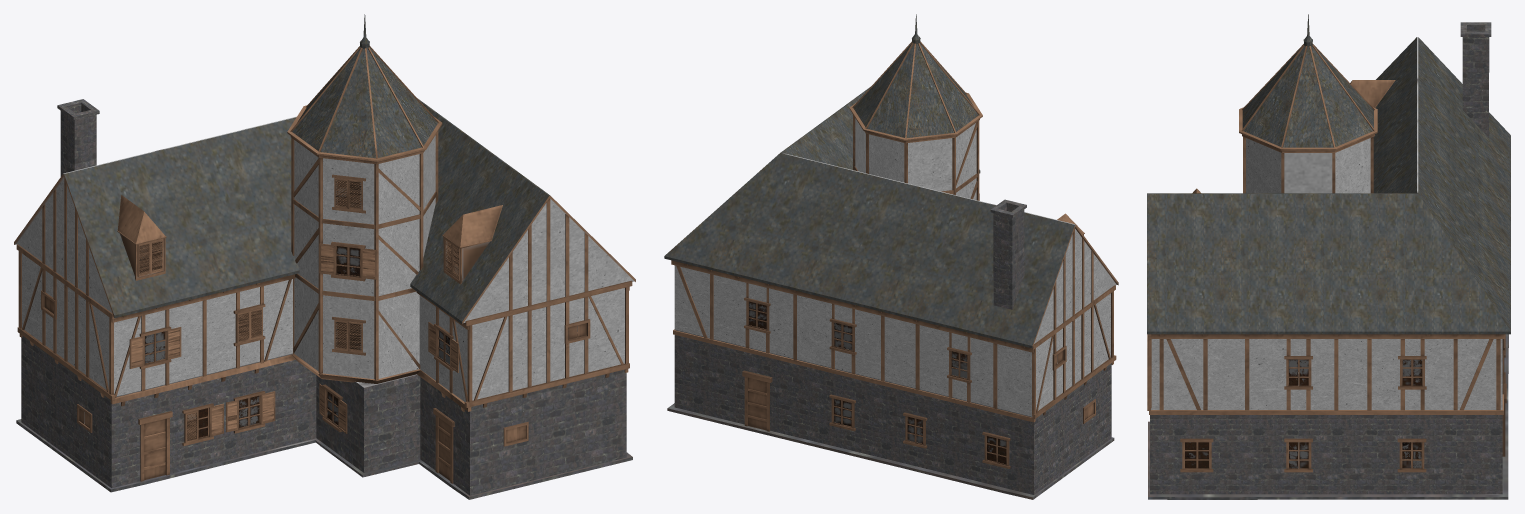
Rendered from house.obj.
The picture shows the model from 3 angles, left to right: view 1: azimuth 30°, elevation 25°; view 2: azimuth 150°, elevation 25°; view 3: azimuth 270°, elevation 25°; orthographic projection. The views are drawn at different scales.
Parts seen in each view (by area): view 1: Medieval_House_04; view 2: Medieval_House_04; view 3: Medieval_House_04.
Part boxes in pixels (<box>): Medieval_House_04: <box>14,14,635,499</box>; Medieval_House_04: <box>664,14,1118,499</box>; Medieval_House_04: <box>1147,14,1510,499</box>.
Size of the model in its own units: 1530 by 1461 by 1199.
Materials: 1 (1 with a texture image).
